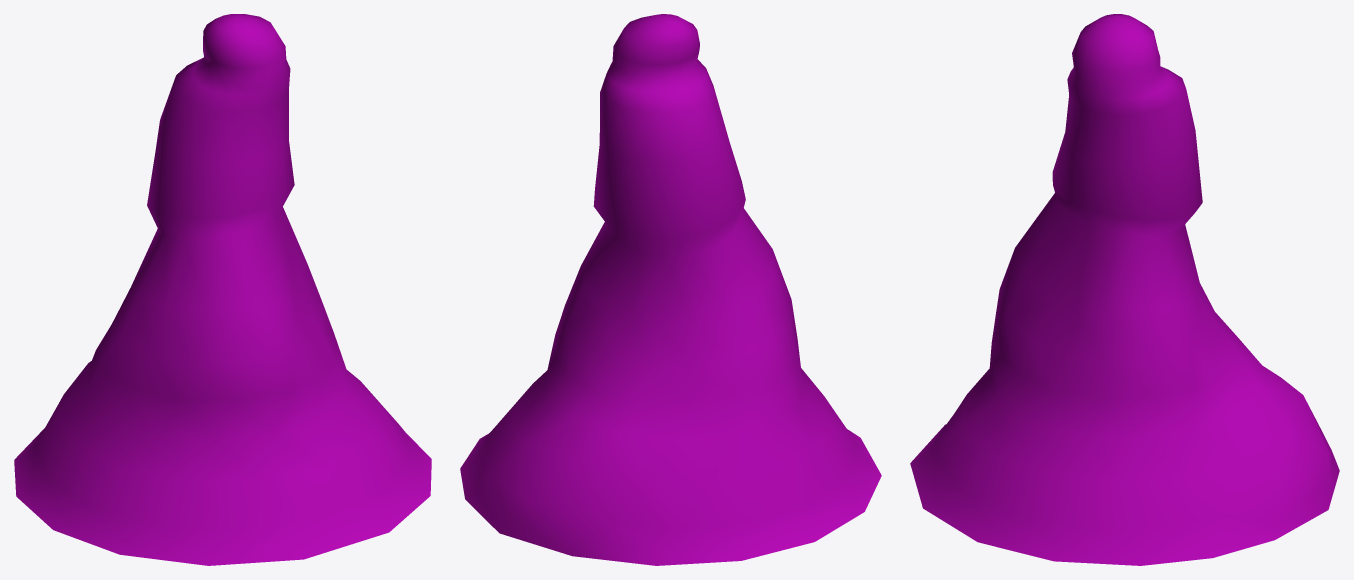
Rendered from Stalagmite_C.fbx.
The picture shows the model from 3 angles, left to right: view 1: azimuth 30°, elevation 25°; view 2: azimuth 150°, elevation 25°; view 3: azimuth 270°, elevation 25°; orthographic projection.
Visible parts, largest first — view 1: Stalagmite_C; view 2: Stalagmite_C; view 3: Stalagmite_C.
Part boxes in pixels (x1=…): Stalagmite_C: x1=14, y1=14, x2=431, y2=565; Stalagmite_C: x1=460, y1=14, x2=881, y2=565; Stalagmite_C: x1=910, y1=14, x2=1339, y2=565.
Bounding box in the file's own units: 8.91 × 10.66 × 8.97.
